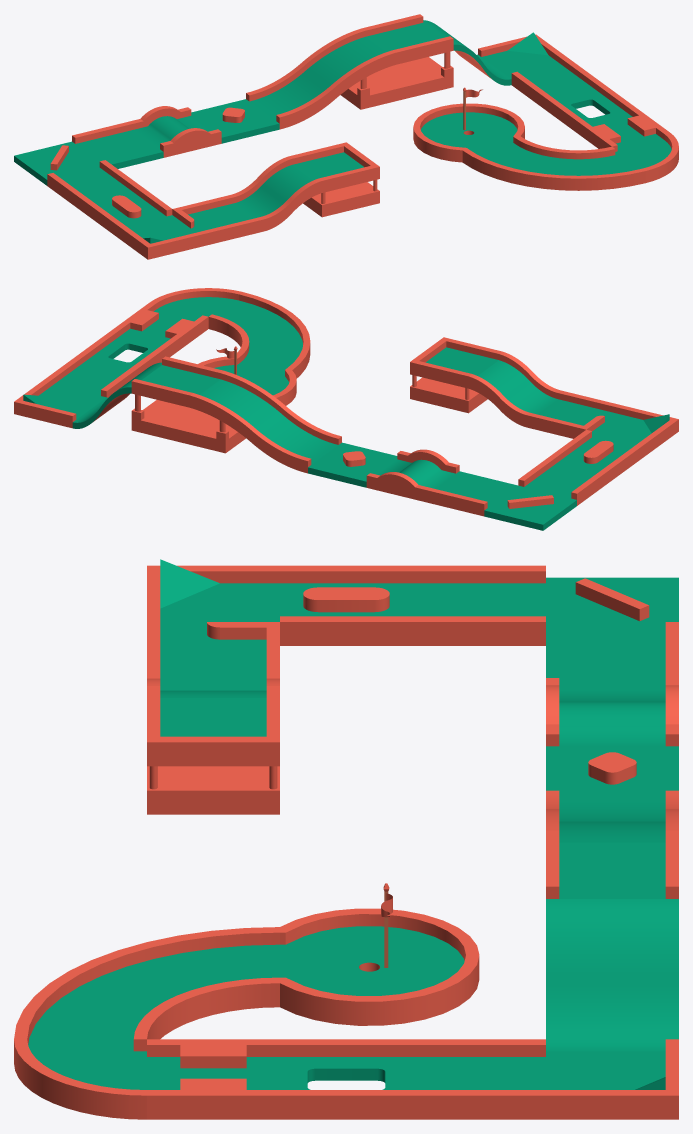
Rendered from Level9.fbx.
The picture shows the model from 3 angles, top to bottom: view 1: azimuth 30°, elevation 25°; view 2: azimuth 150°, elevation 25°; view 3: azimuth 270°, elevation 25°; orthographic projection. The views are drawn at different scales.
Visible parts, largest first — view 1: straight (×3), slope_smoothC_long, bend_large, corner_hill (×2), end_roundHoleLarge, open_block (×3), slope_smoothB, straight_bump, end, straight_gap, side, straight_obstacleRound (+7 smaller); view 2: straight (×3), slope_smoothC_long, bend_large, corner_hill (×2), open_block (×3), slope_smoothB, straight_bump, end, straight_gap, open_diagonal, straight_narrowSquare, straight_obstacleRound (+7 smaller); view 3: straight (×3), bend_large, slope_center_smoothD, end_roundHoleLarge, corner_hill (×2), straight_narrowSquare, straight_obstacleRound, straight_hole, end, straight_gap, straight_bump, bend_open (+6 smaller).
Part boxes in pixels (left/top/right/bottom): straight (×3): left=47, top=14, right=602, bottom=210; slope_smoothC_long: left=246, top=28, right=395, bottom=129; bend_large: left=462, top=136, right=645, bottom=190; corner_hill (×2): left=114, top=32, right=568, bottom=259; end_roundHoleLarge: left=413, top=103, right=524, bottom=162; open_block (×3): left=303, top=57, right=453, bottom=217; slope_smoothB: left=231, top=156, right=321, bottom=231; straight_bump: left=130, top=106, right=221, bottom=157; end: left=289, top=142, right=379, bottom=192; straight_gap: left=172, top=195, right=263, bottom=245; side: left=72, top=121, right=163, bottom=168; straight_obstacleRound: left=81, top=184, right=172, bottom=234; straight (×3): left=48, top=352, right=610, bottom=505; slope_smoothC_long: left=190, top=371, right=341, bottom=473; bend_large: left=208, top=292, right=310, bottom=378; corner_hill (×2): left=14, top=377, right=678, bottom=455; open_block (×3): left=131, top=377, right=487, bottom=452; slope_smoothB: left=468, top=351, right=560, bottom=427; straight_bump: left=366, top=449, right=459, bottom=501; end: left=410, top=337, right=502, bottom=388; straight_gap: left=527, top=390, right=619, bottom=438; open_diagonal: left=484, top=485, right=576, bottom=530; straight_narrowSquare: left=116, top=302, right=208, bottom=353; straight_obstacleRound: left=552, top=429, right=644, bottom=480; straight (×3): left=413, top=565, right=678, bottom=1119; bend_large: left=14, top=927, right=279, bottom=1051; slope_center_smoothD: left=546, top=899, right=678, bottom=1051; end_roundHoleLarge: left=280, top=908, right=479, bottom=1025; corner_hill (×2): left=147, top=559, right=678, bottom=1119; straight_narrowSquare: left=147, top=1039, right=279, bottom=1119; straight_obstacleRound: left=280, top=565, right=412, bottom=645; straight_hole: left=280, top=1039, right=412, bottom=1119; end: left=147, top=686, right=279, bottom=766; straight_gap: left=147, top=622, right=279, bottom=689; straight_bump: left=546, top=678, right=678, bottom=746; bend_open: left=14, top=1039, right=146, bottom=1119.
Bounding box in the file's own units: 90 × 10 × 50.
